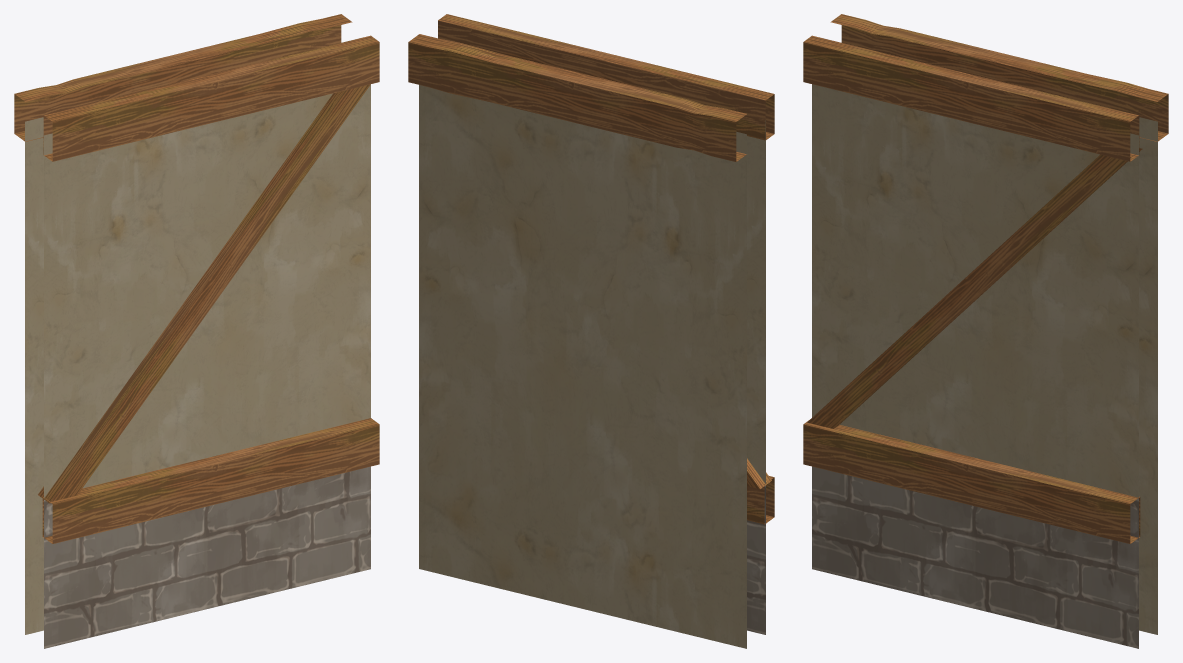
The model's file is Wall_Plaster_Straight_R.gltf.
The picture shows the model from 3 angles, left to right: view 1: azimuth 30°, elevation 25°; view 2: azimuth 150°, elevation 25°; view 3: azimuth 330°, elevation 25°; orthographic projection.
Visible parts, largest first — view 1: Wall_Plaster_Straight_R; view 2: Wall_Plaster_Straight_R; view 3: Wall_Plaster_Straight_R.
Part boxes in pixels (x1,y1,x2,y2): Wall_Plaster_Straight_R: [14, 14, 379, 648]; Wall_Plaster_Straight_R: [408, 14, 774, 648]; Wall_Plaster_Straight_R: [803, 14, 1168, 648].
Bounding box in the file's own units: 2 × 3.12 × 0.4065.
Materials: 3 (3 with a texture image).
